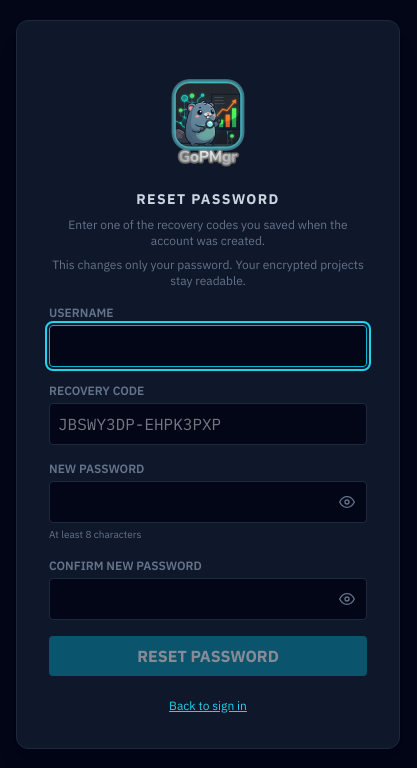
Test: RecoveryReset › keeps every other failure generic, so it does not reveal which accounts exist
The image size is (417, 768).
Step 1. Type "alice" into the field labelled "Username" → (208, 346), box x1=49 y1=324 x2=367 y2=366
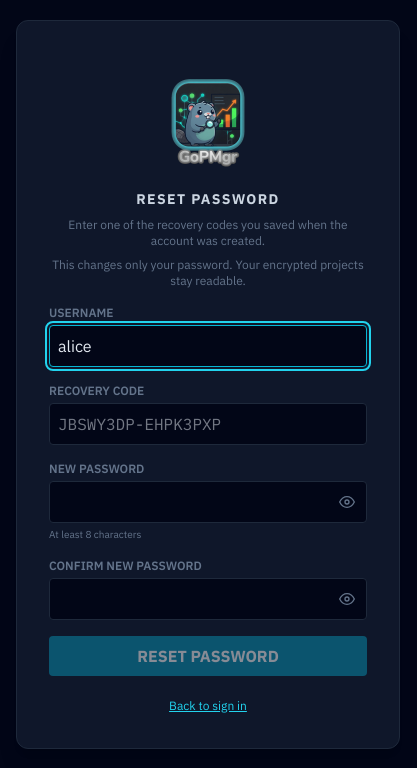
Step 2. Type "AAAAAAAA-BBBBBBBB" into the field labelled "Recovery code" → (208, 424), box x1=49 y1=402 x2=367 y2=444
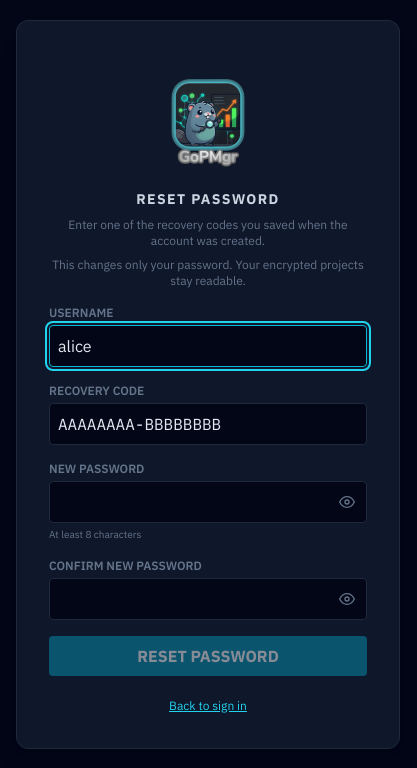
Step 3. Type "new-password" into the password field labelled "New password" → (208, 502), box x1=49 y1=480 x2=367 y2=522
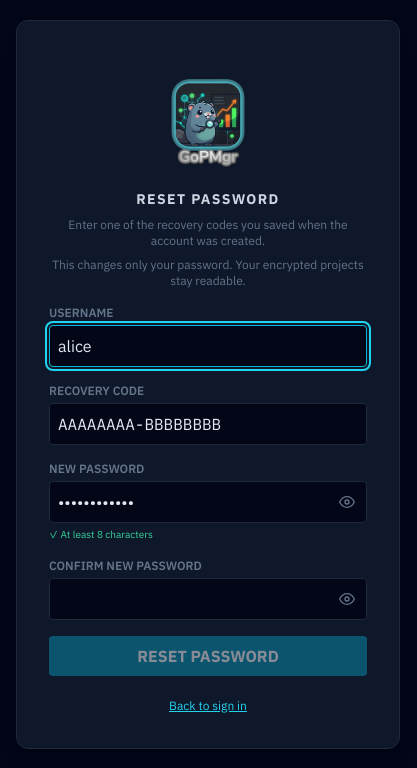
Step 4. Type "new-password" into the password field labelled "Confirm new password" → (208, 598), box x1=49 y1=578 x2=367 y2=620
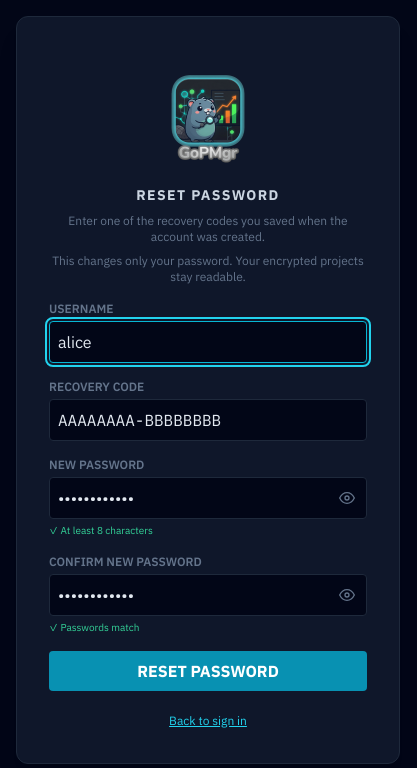
Step 5. Submit the form "Reset password"
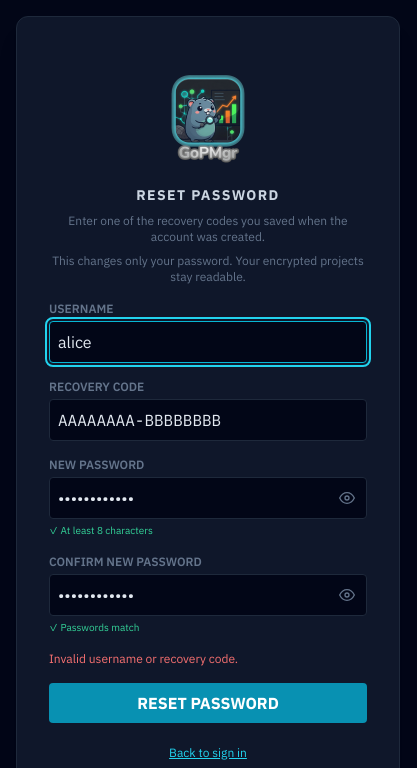
Expected: the message reads "Invalid username or recovery code.", x1=49 y1=651 x2=238 y2=666
